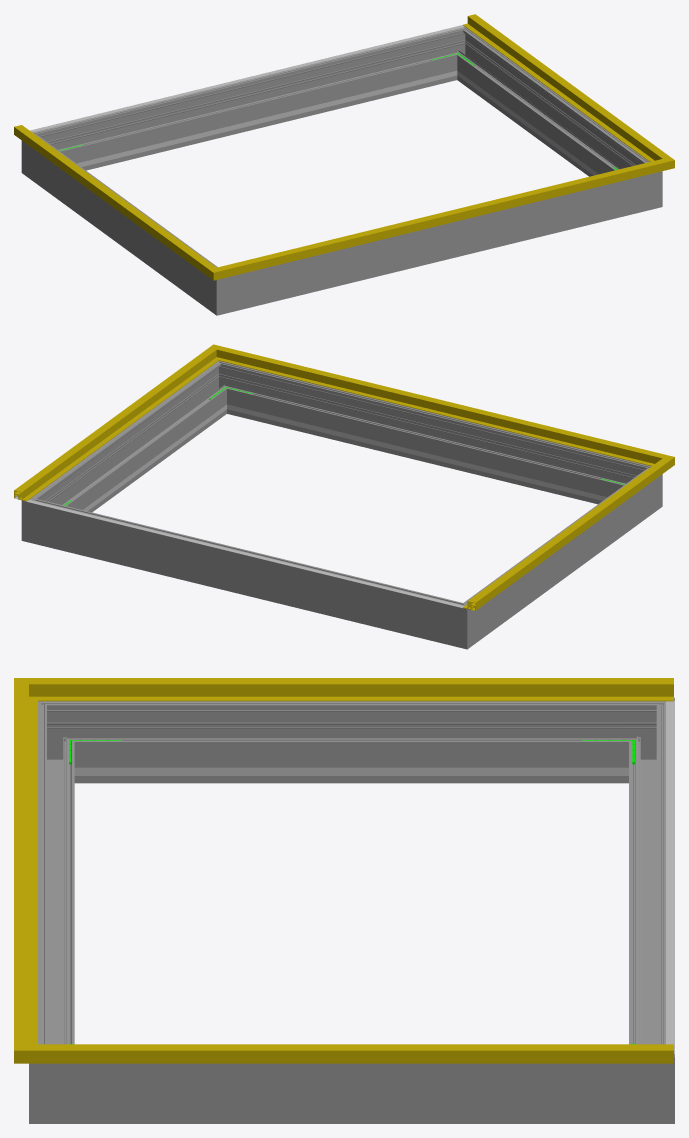
The picture shows the model from 3 angles, top to bottom: view 1: azimuth 30°, elevation 25°; view 2: azimuth 150°, elevation 25°; view 3: azimuth 270°, elevation 25°; orthographic projection. The views are drawn at different scales.
Visible parts, largest first — view 1: 3DGeom-276, 3DGeom-298, 3DGeom-297, 3DGeom-268, 3DGeom-123, 3DGeom-128, 3DGeom-118, 3DGeom-244, 3DGeom-270, 3DGeom-220, 3DGeom-284, 3DGeom-290 (+4 smaller); view 2: 3DGeom-298, 3DGeom-276, 3DGeom-297, 3DGeom-123, 3DGeom-268, 3DGeom-128, 3DGeom-118, 3DGeom-278, 3DGeom-239, 3DGeom-220, 3DGeom-284, 3DGeom-290 (+4 smaller); view 3: 3DGeom-268, 3DGeom-297, 3DGeom-118, 3DGeom-128, 3DGeom-276, 3DGeom-298, 3DGeom-123, 3DGeom-232, 3DGeom-284, 3DGeom-290, 3DGeom-220, 3DGeom-270 (+3 smaller).
Boxes of the visible parts, bbox=[...] form: 3DGeom-276: bbox=[53, 33, 452, 170]; 3DGeom-298: bbox=[245, 178, 633, 308]; 3DGeom-297: bbox=[460, 37, 641, 176]; 3DGeom-268: bbox=[38, 142, 208, 303]; 3DGeom-123: bbox=[238, 164, 645, 273]; 3DGeom-128: bbox=[463, 14, 657, 158]; 3DGeom-118: bbox=[14, 125, 204, 268]; 3DGeom-244: bbox=[87, 77, 429, 165]; 3DGeom-270: bbox=[200, 261, 245, 315]; 3DGeom-220: bbox=[30, 25, 464, 132]; 3DGeom-284: bbox=[441, 27, 479, 81]; 3DGeom-290: bbox=[634, 156, 662, 213]; 3DGeom-298: bbox=[231, 366, 630, 504]; 3DGeom-276: bbox=[50, 503, 443, 642]; 3DGeom-297: bbox=[43, 371, 224, 512]; 3DGeom-123: bbox=[235, 351, 645, 463]; 3DGeom-268: bbox=[475, 476, 645, 636]; 3DGeom-128: bbox=[14, 356, 209, 501]; 3DGeom-118: bbox=[463, 467, 658, 610]; 3DGeom-278: bbox=[438, 595, 483, 649]; 3DGeom-239: bbox=[254, 411, 596, 499]; 3DGeom-220: bbox=[26, 500, 464, 607]; 3DGeom-284: bbox=[21, 489, 55, 547]; 3DGeom-290: bbox=[205, 361, 242, 415]; 3DGeom-268: bbox=[84, 701, 619, 783]; 3DGeom-297: bbox=[84, 1063, 619, 1123]; 3DGeom-118: bbox=[69, 678, 673, 701]; 3DGeom-128: bbox=[69, 1044, 673, 1063]; 3DGeom-276: bbox=[629, 720, 665, 1044]; 3DGeom-298: bbox=[38, 720, 74, 1044]; 3DGeom-123: bbox=[14, 701, 37, 1039]; 3DGeom-232: bbox=[128, 767, 575, 775]; 3DGeom-284: bbox=[620, 1034, 674, 1123]; 3DGeom-290: bbox=[29, 1034, 83, 1123]; 3DGeom-220: bbox=[666, 701, 674, 1053]; 3DGeom-270: bbox=[38, 701, 83, 783].
Bounding box in the file's own units: 2.44 × 0.2434 × 1.83.
